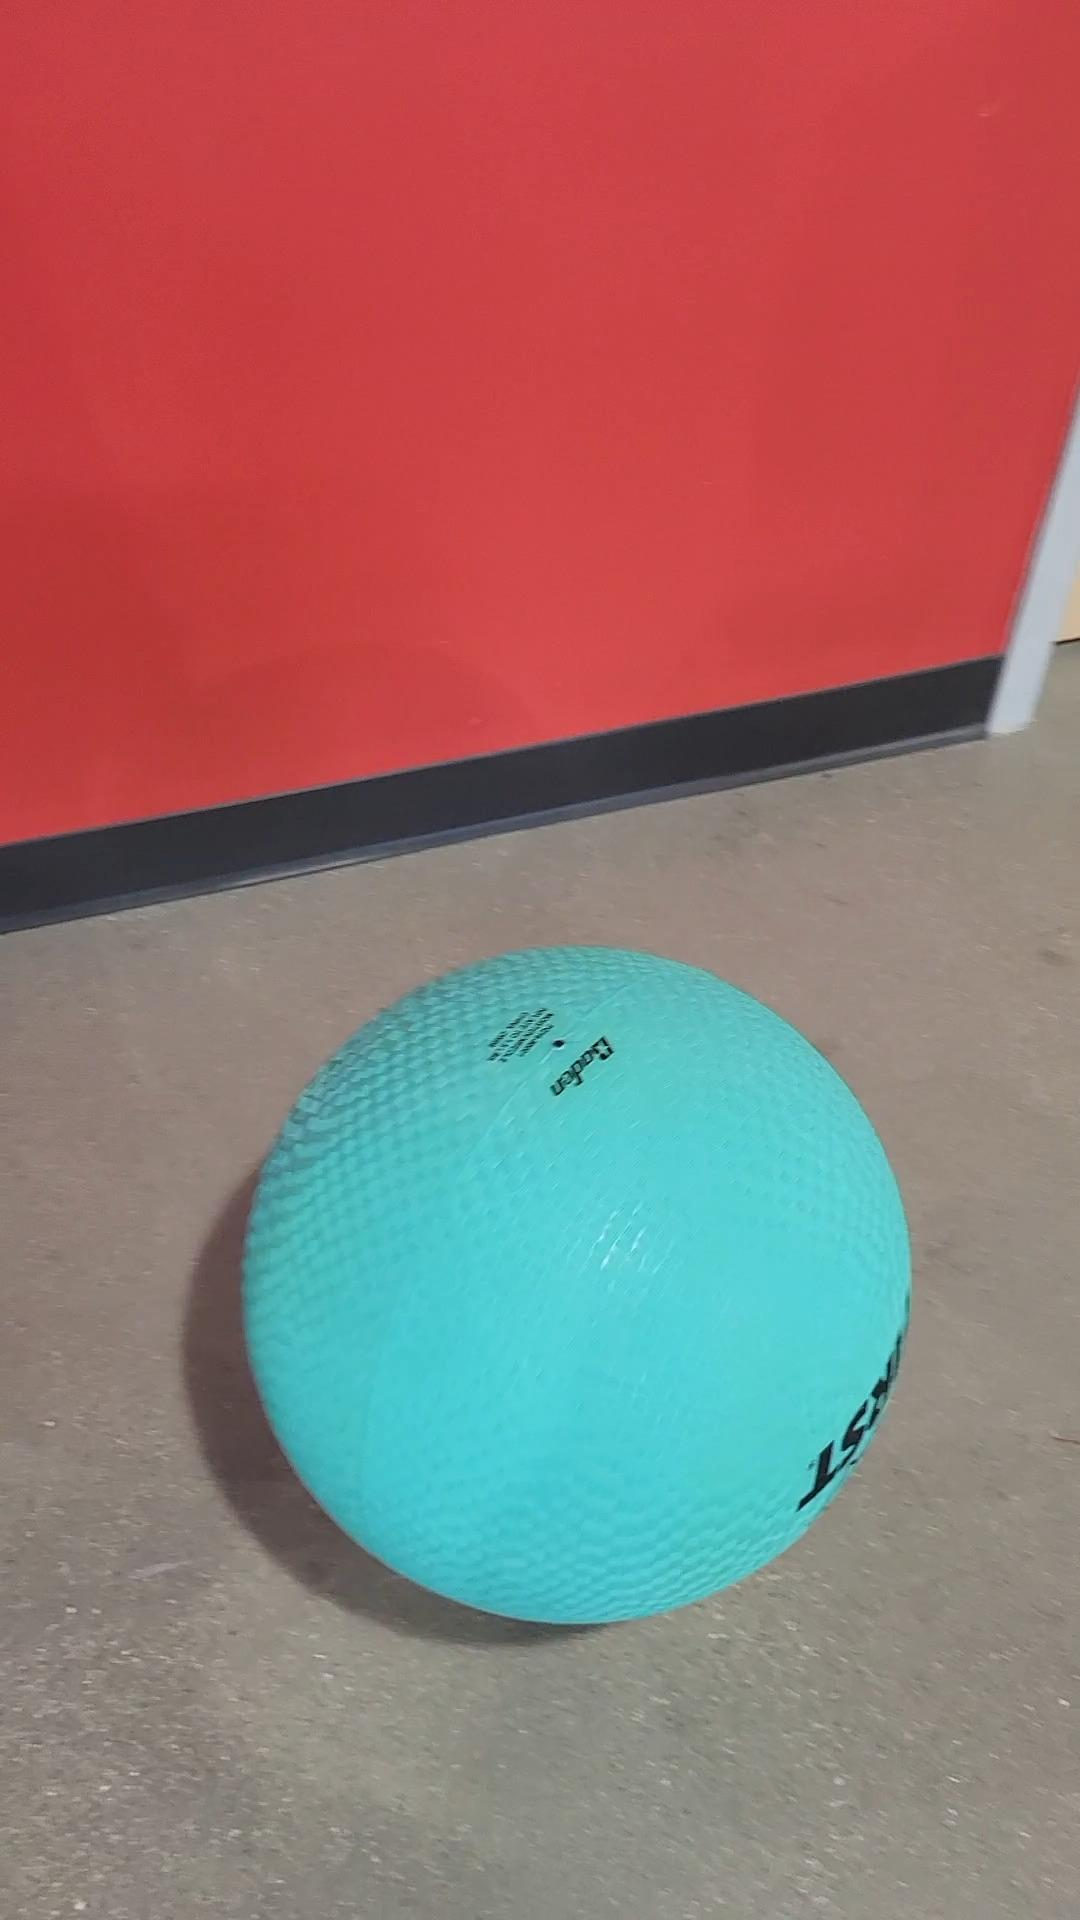algae: (247, 945, 906, 1625)
